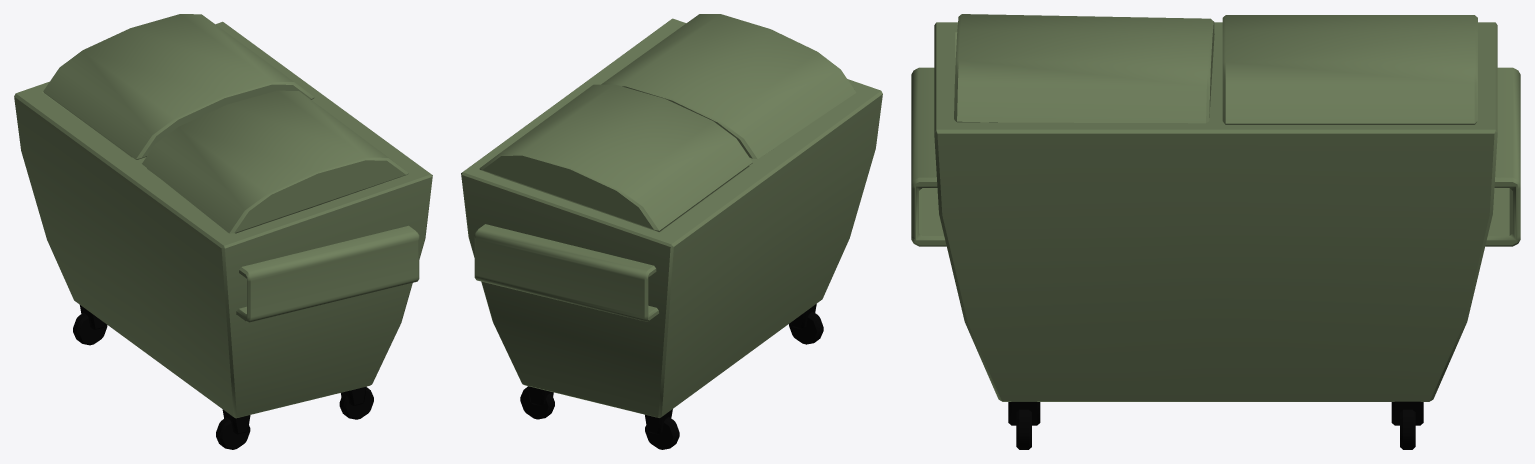
The model's file is Dumpster2.glb.
3 views of the same model, side by side, from view 1: azimuth 30°, elevation 25°; view 2: azimuth 150°, elevation 25°; view 3: azimuth 270°, elevation 25° (orthographic). The views are drawn at different scales.
Visible parts, largest first — view 1: DumpsterClosed; view 2: DumpsterClosed; view 3: DumpsterClosed.
Boxes of the visible parts, x1,y1,x2,y2 form: DumpsterClosed: [14, 14, 432, 449]; DumpsterClosed: [461, 14, 882, 449]; DumpsterClosed: [911, 14, 1520, 449].
Bounding box in the file's own units: 1.02 × 1.31 × 1.91.
1 material, 1 textured.
